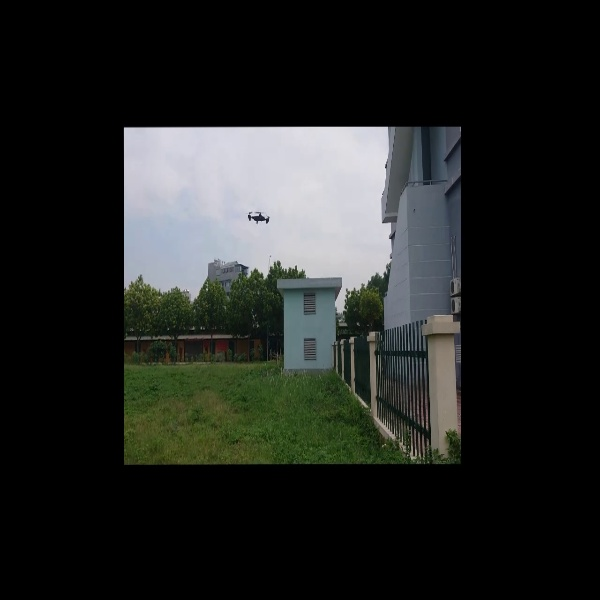drone: (243, 202, 275, 231)
